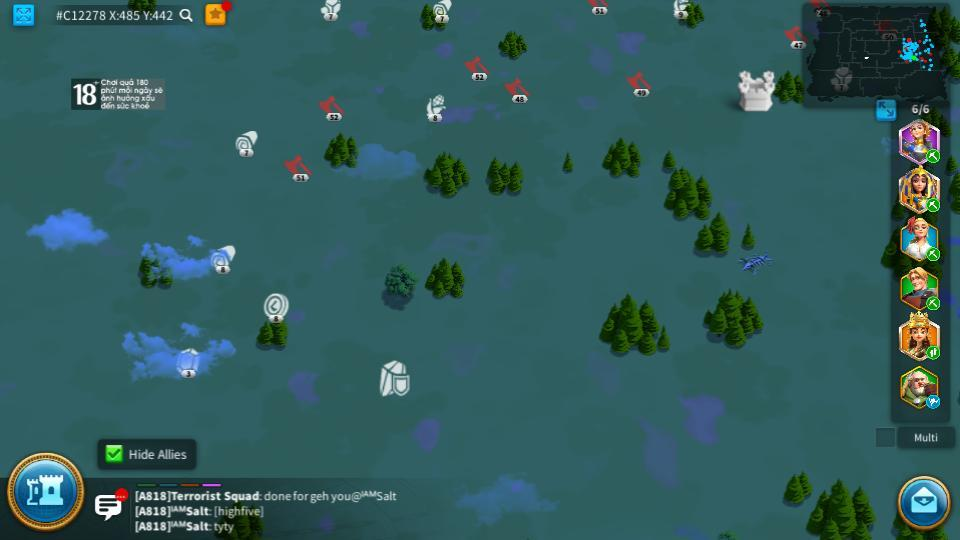march_farming: (923, 199, 940, 212), (925, 297, 942, 310), (924, 150, 939, 162), (926, 248, 940, 260)
march_idle: (925, 396, 942, 408)
march_marching: (925, 345, 942, 359)
